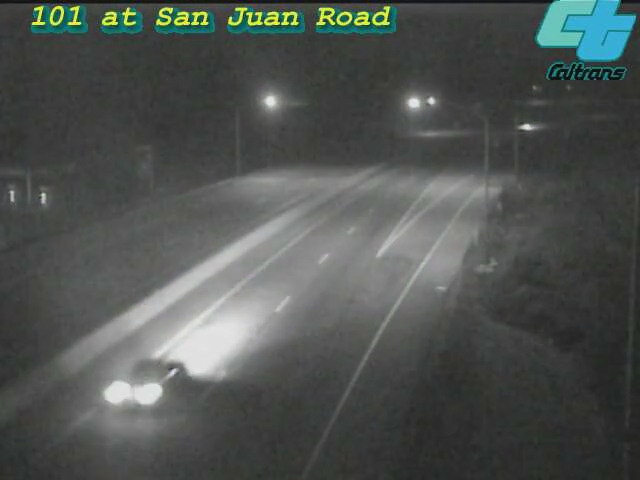vehicle: (94, 324, 204, 434), (501, 101, 551, 151)
